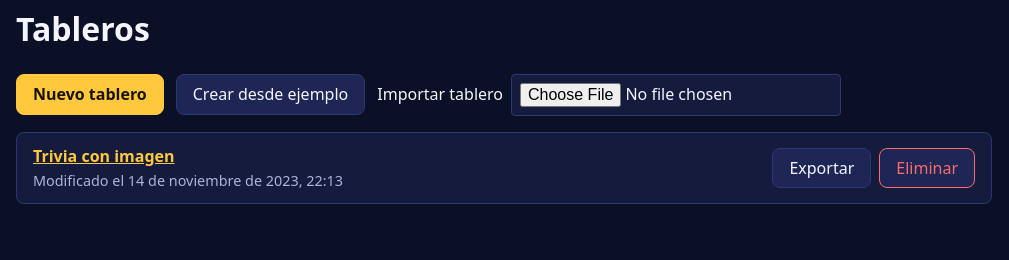
Test: BoardListScreen: exportar e importar › exportar descarga un archivo con el tablero y sus imágenes
Click the button with aria-label "Exportar Trivia con imagen". click: click(822, 168)
box: [772,148,871,188]
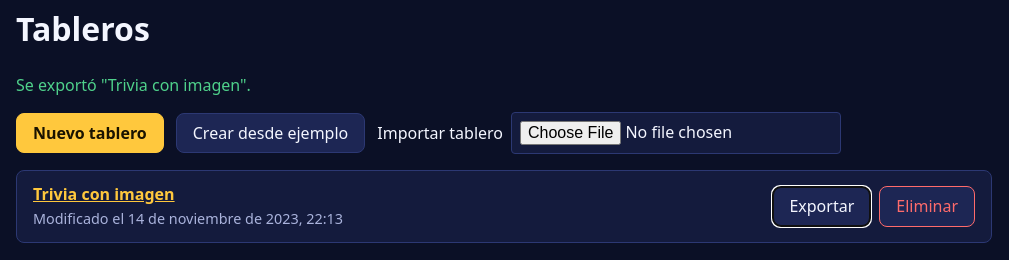
Now the message shows "Se exportó \"Trivia con imagen\"", box [16,74,251,96]
